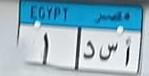1: (38, 31, 51, 66)
أ: (116, 34, 137, 68)
د: (81, 37, 95, 63)
س: (96, 39, 118, 63)
